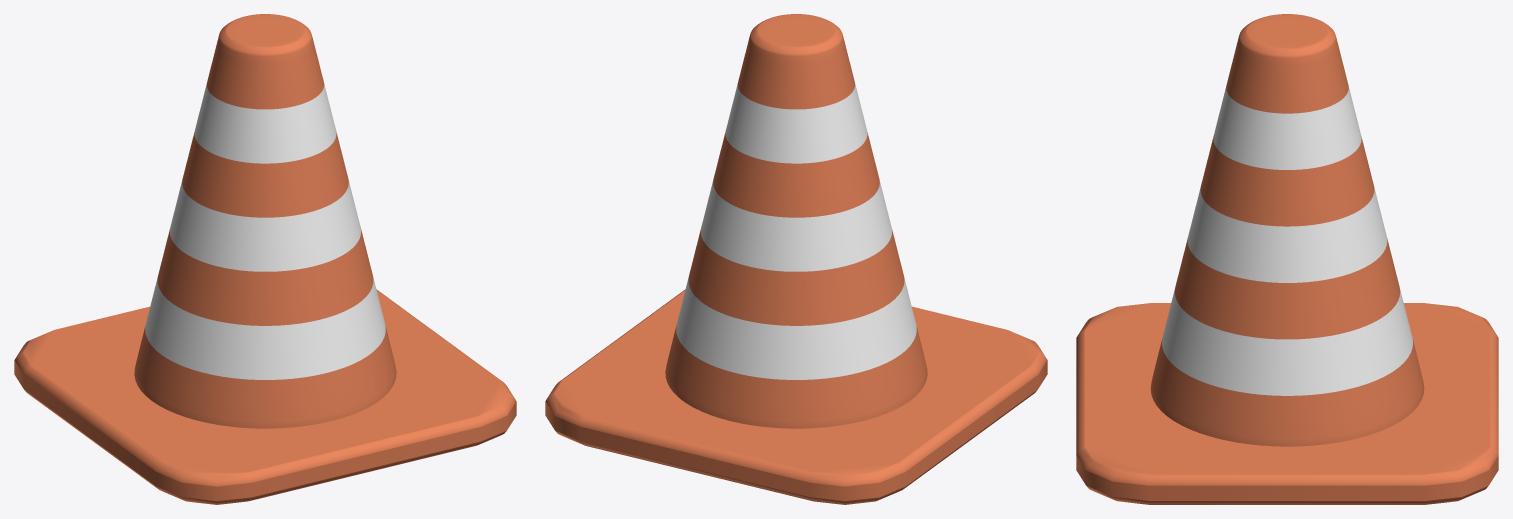
File: TrafficConeHat.fbx
3 views of the same model, side by side, from view 1: azimuth 30°, elevation 25°; view 2: azimuth 150°, elevation 25°; view 3: azimuth 270°, elevation 25° (orthographic). The views are drawn at different scales.
Visible parts, largest first — view 1: TrafficCone; view 2: TrafficCone; view 3: TrafficCone.
Part boxes in pixels (<box>): TrafficCone: <box>14,14,516,504</box>; TrafficCone: <box>545,14,1047,504</box>; TrafficCone: <box>1076,14,1498,504</box>.
Bounding box in the file's own units: 195 × 198 × 195.
